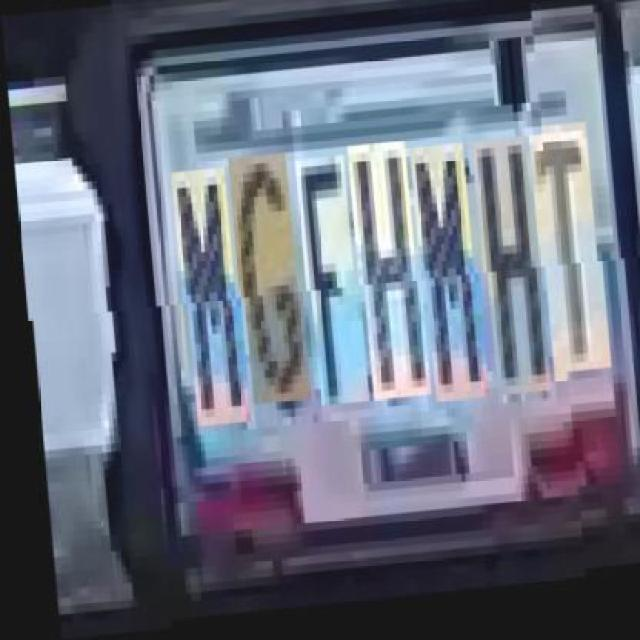f: (296, 162, 362, 412)
g: (228, 158, 304, 410)
h: (348, 148, 423, 408), (472, 146, 543, 406)
m: (172, 171, 243, 431), (410, 152, 481, 412)
t: (529, 142, 605, 393)
